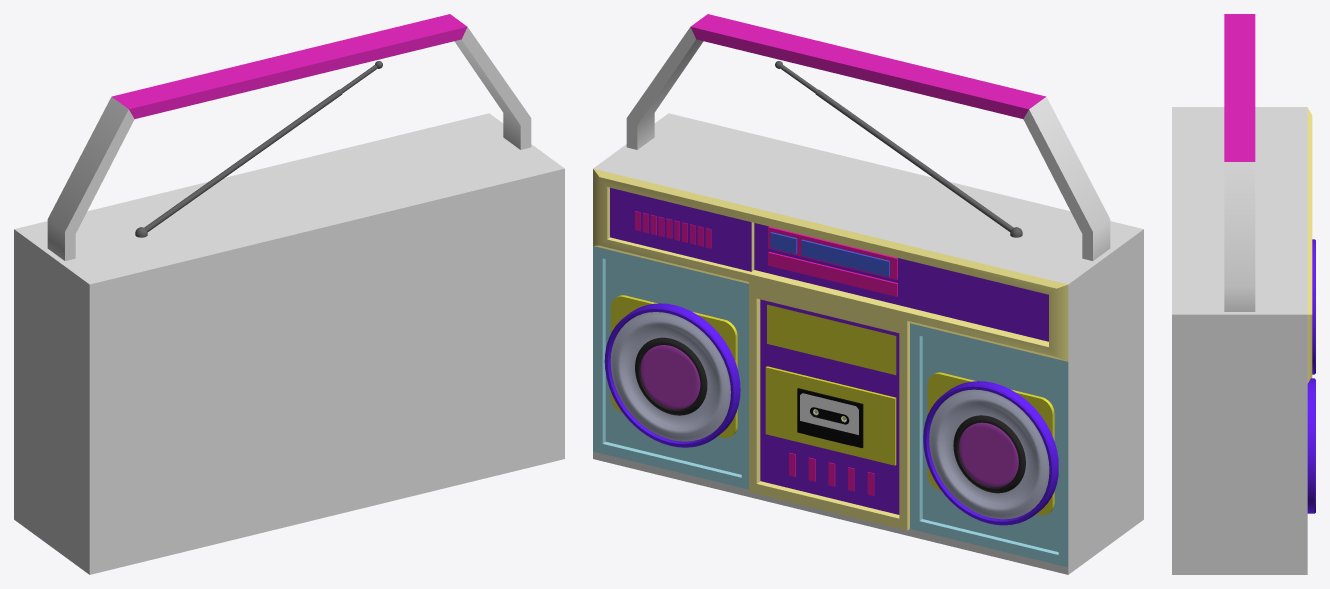
Rendered from toybox_boombox_mesh.fbx.
3 views of the same model, side by side, from view 1: azimuth 30°, elevation 25°; view 2: azimuth 150°, elevation 25°; view 3: azimuth 270°, elevation 25° (orthographic). The views are drawn at different scales.
Parts seen in each view (by area): view 1: Body; view 2: Body, Speakers, Cassette; view 3: Body, Speakers.
Boxes of the visible parts, bbox=[...] form: Body: bbox=[14, 14, 564, 574]; Body: bbox=[593, 14, 1143, 574]; Speakers: bbox=[604, 295, 1058, 525]; Cassette: bbox=[797, 388, 863, 447]; Body: bbox=[1172, 14, 1312, 574]; Speakers: bbox=[1307, 239, 1315, 513].
Size of the model in its own units: 363 by 312 by 106.
